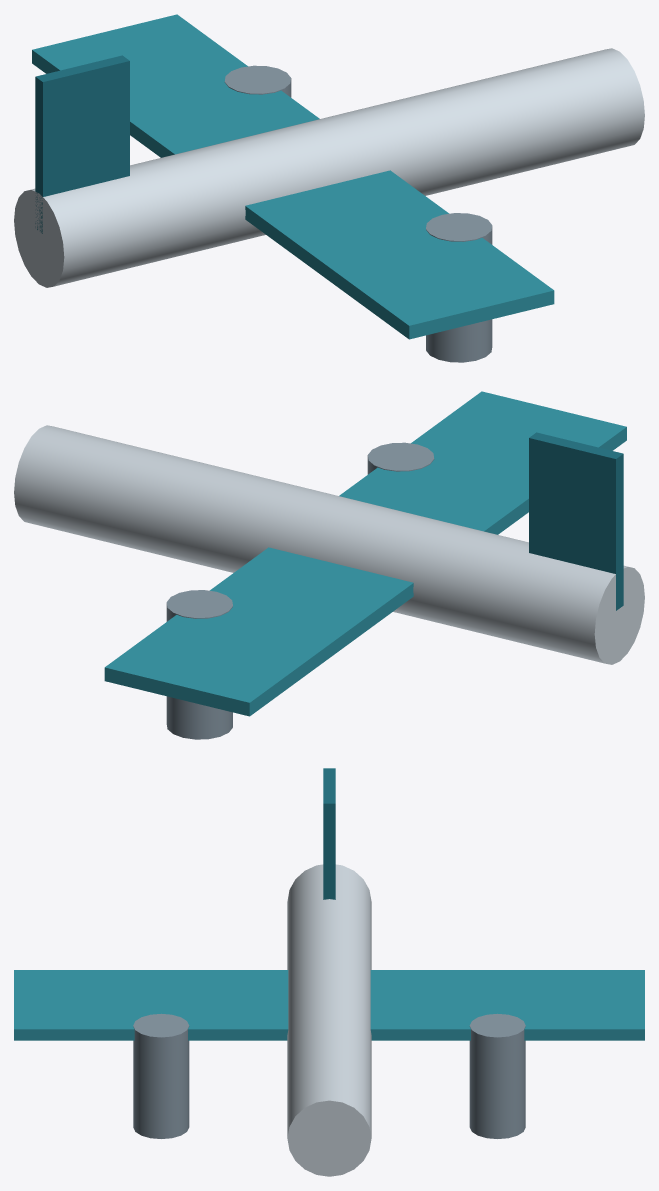
The model's file is test-aircraft.glb.
3 views of the same model, one above another, from view 1: azimuth 30°, elevation 25°; view 2: azimuth 150°, elevation 25°; view 3: azimuth 270°, elevation 25° (orthographic). The views are drawn at different scales.
Visible parts, largest first — view 1: Fuselage, MainWing, VerticalStabilizer, RightEngine, LeftEngine; view 2: Fuselage, MainWing, VerticalStabilizer, LeftEngine, RightEngine; view 3: MainWing, Fuselage, LeftEngine, RightEngine, VerticalStabilizer.
Part boxes in pixels (bbox=[...]): Fuselage: bbox=[14, 48, 644, 287]; MainWing: bbox=[32, 14, 554, 339]; VerticalStabilizer: bbox=[35, 55, 129, 233]; RightEngine: bbox=[426, 213, 492, 362]; LeftEngine: bbox=[224, 65, 291, 97]; Fuselage: bbox=[14, 425, 644, 664]; MainWing: bbox=[104, 391, 626, 716]; VerticalStabilizer: bbox=[529, 432, 623, 610]; LeftEngine: bbox=[166, 590, 232, 739]; RightEngine: bbox=[367, 442, 434, 474]; MainWing: bbox=[14, 970, 644, 1040]; Fuselage: bbox=[287, 864, 371, 1176]; LeftEngine: bbox=[469, 1013, 525, 1138]; RightEngine: bbox=[133, 1013, 189, 1138]; VerticalStabilizer: bbox=[323, 768, 335, 899].
Bounding box in the file's own units: 8 × 3.6 × 9.
